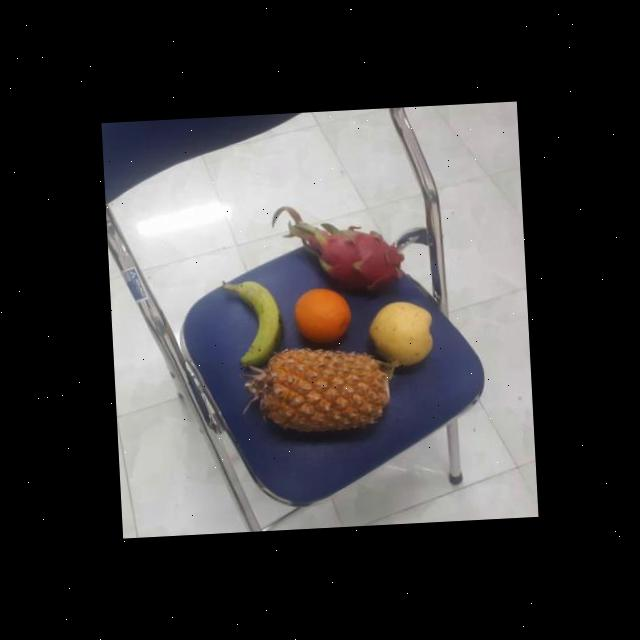pear: (365, 298, 438, 368), (290, 286, 354, 348)
pineapple: (247, 346, 392, 438)
pitaya: (306, 228, 402, 298)
